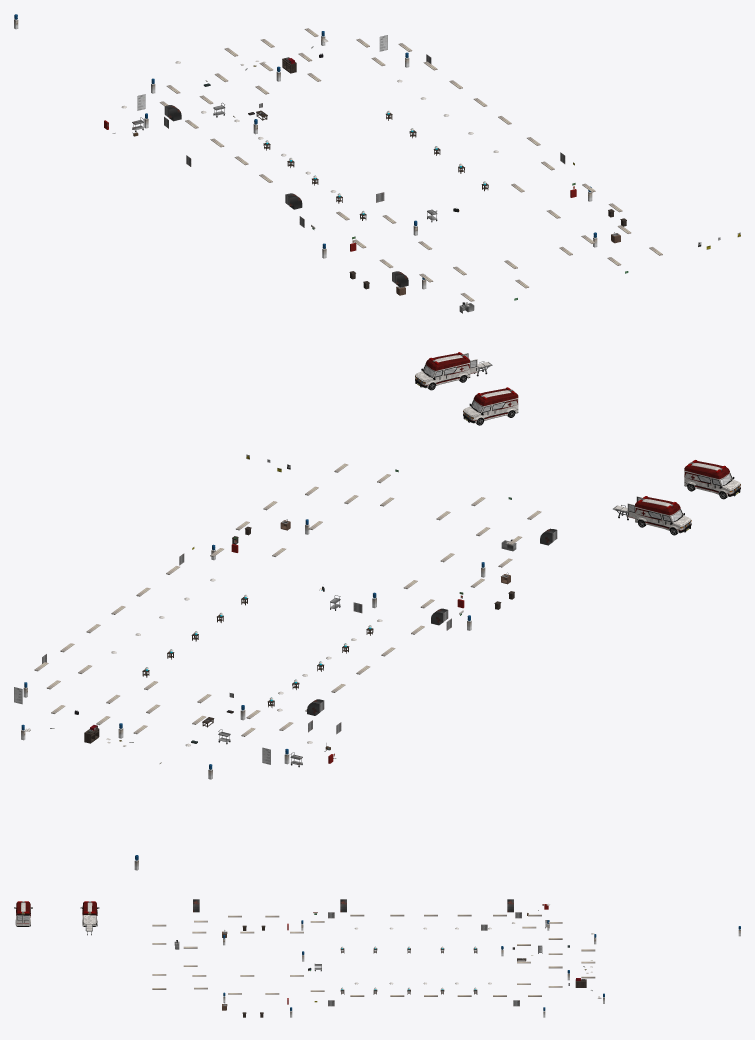
The model's file is Itens Extras FInais.fbx.
3 views of the same model, one above another, from view 1: azimuth 30°, elevation 25°; view 2: azimuth 150°, elevation 25°; view 3: azimuth 270°, elevation 25° (orthographic). The views are drawn at different scales.
Visible parts, largest first — view 1: 0001 Ambulancia, 0002 Ambulancia; view 2: 0001 Ambulancia, 0002 Ambulancia; view 3: 0002 Ambulancia, 0001 Ambulancia.
Boxes of the visible parts, bbox=[...] form: 0001 Ambulancia: bbox=[415, 352, 477, 390]; 0002 Ambulancia: bbox=[463, 387, 518, 425]; 0001 Ambulancia: bbox=[627, 496, 691, 535]; 0002 Ambulancia: bbox=[684, 460, 740, 499]; 0002 Ambulancia: bbox=[14, 901, 32, 926]; 0001 Ambulancia: bbox=[80, 901, 99, 926].
Bounding box in the file's own units: 4623 × 533 × 11159.
Materials: 262 (262 with a texture image).
